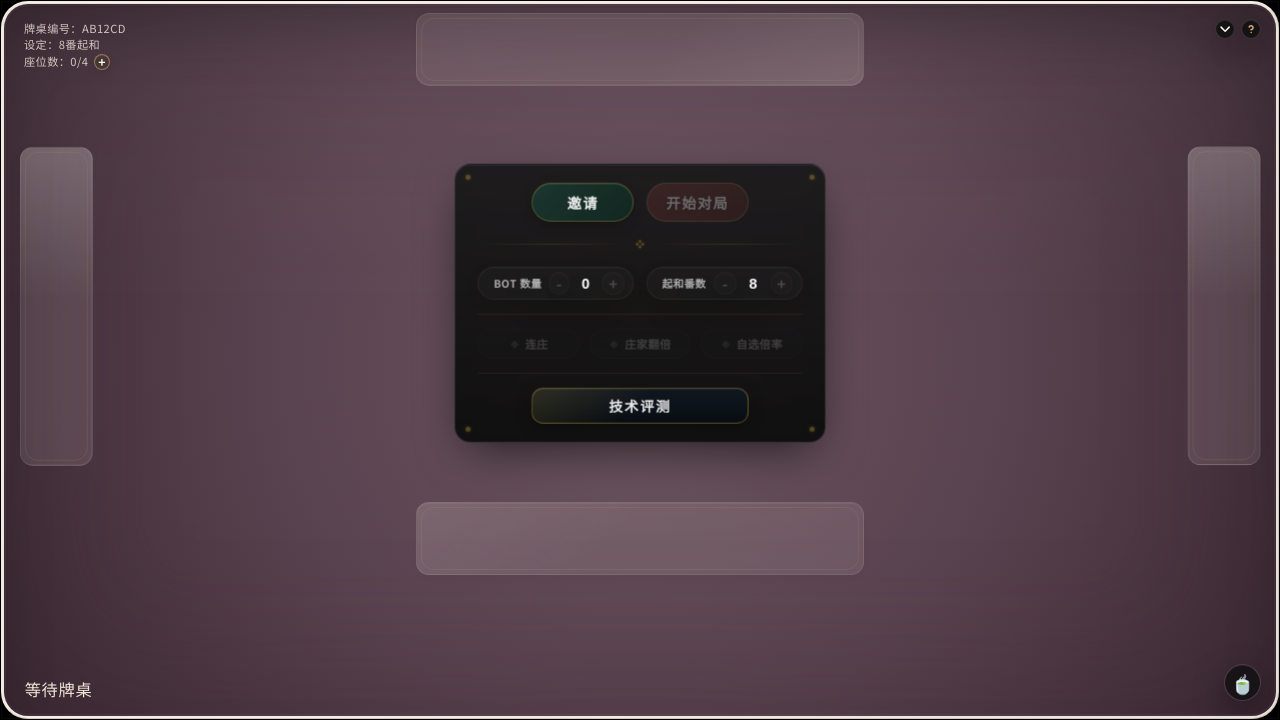
Test: App › starts evaluation, enters the current user table, and shows subject names instead of table codes
Click the button named "展开牌桌快捷设置".
click(1225, 29)  # box left=1215, top=19, right=1235, bottom=39
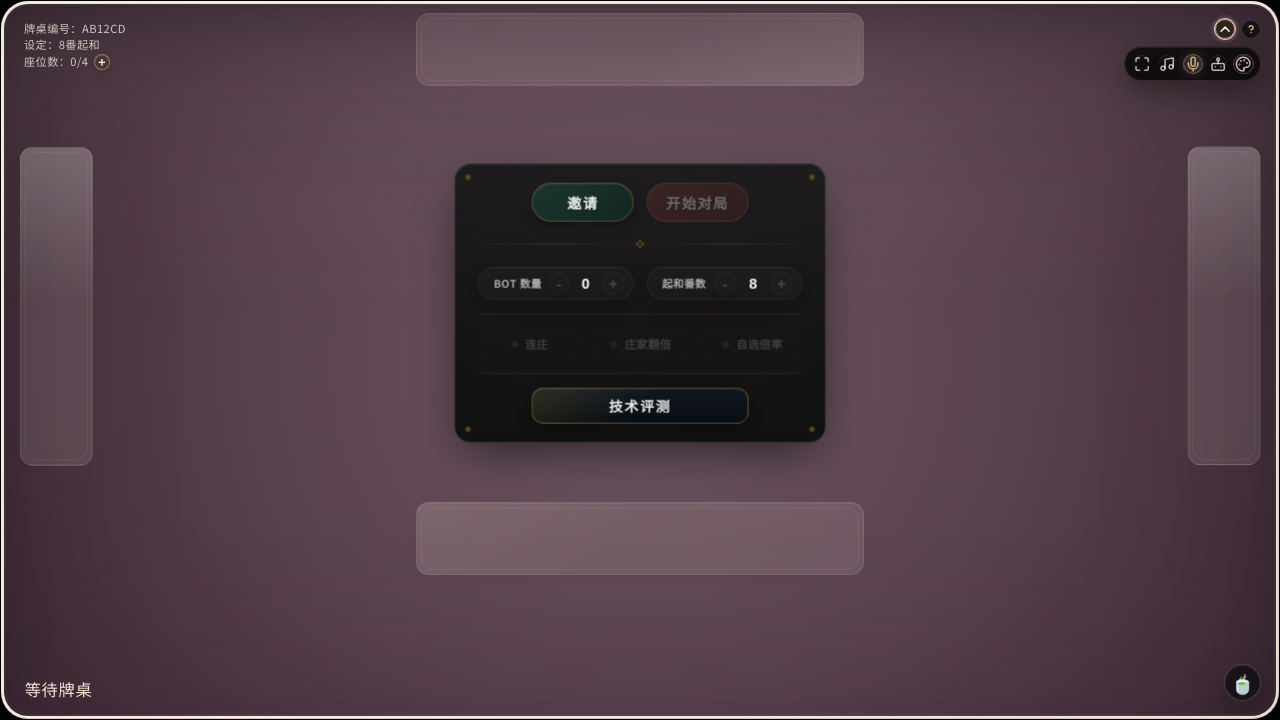
Click the button "技术评测".
click(640, 405)  # box left=532, top=387, right=748, bottom=424
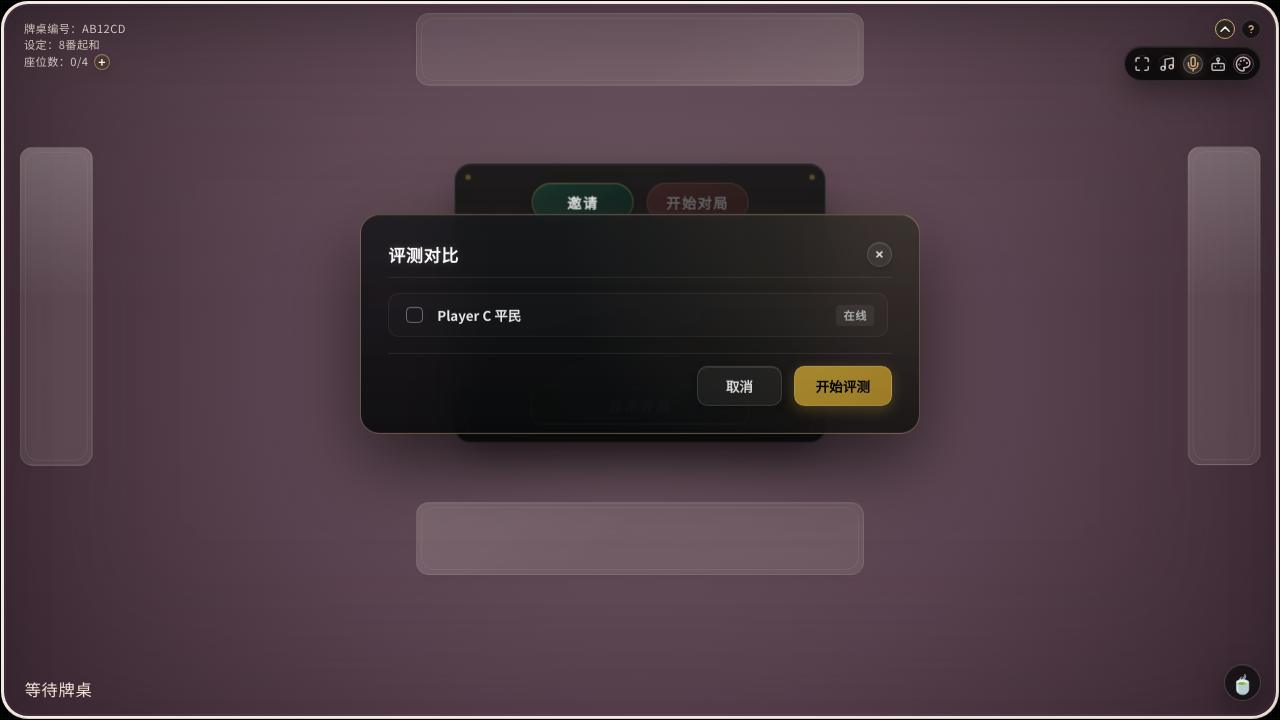
Click the checkbox labelled "Player C 平民 在线".
click(414, 315)  # box left=406, top=307, right=423, bottom=323
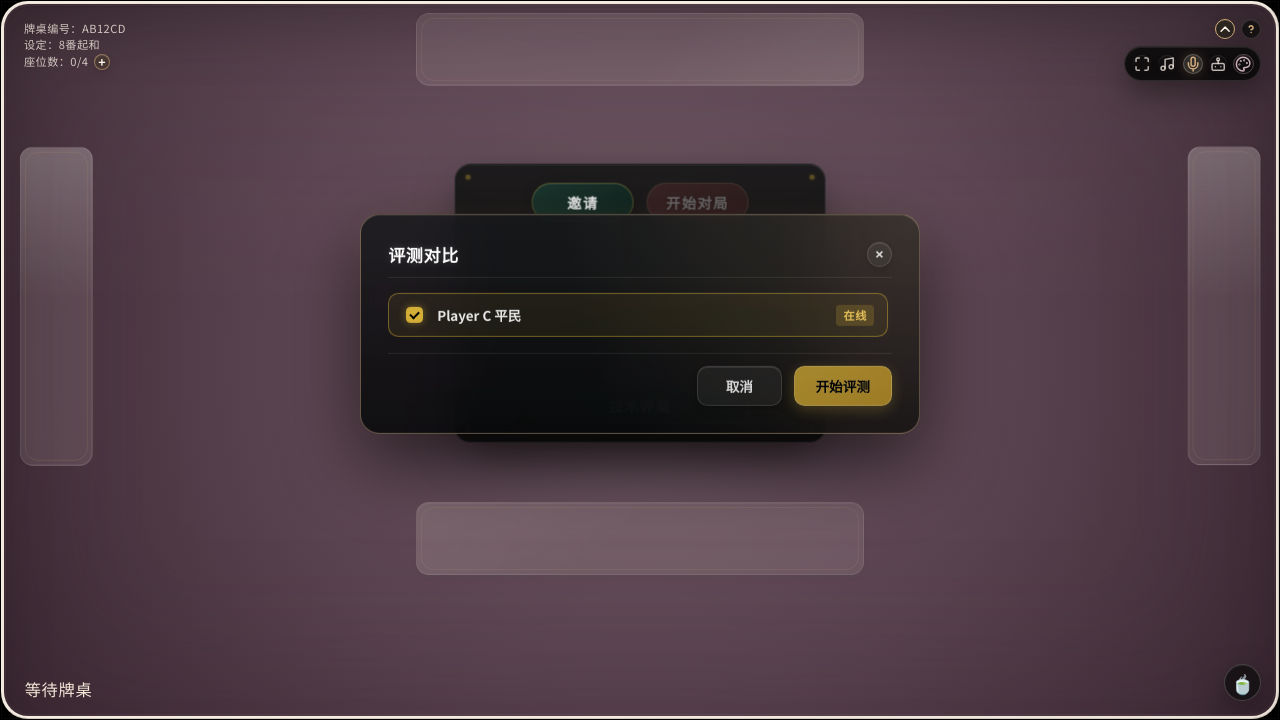
Click the button "开始评测".
click(843, 386)  # box left=794, top=366, right=892, bottom=406
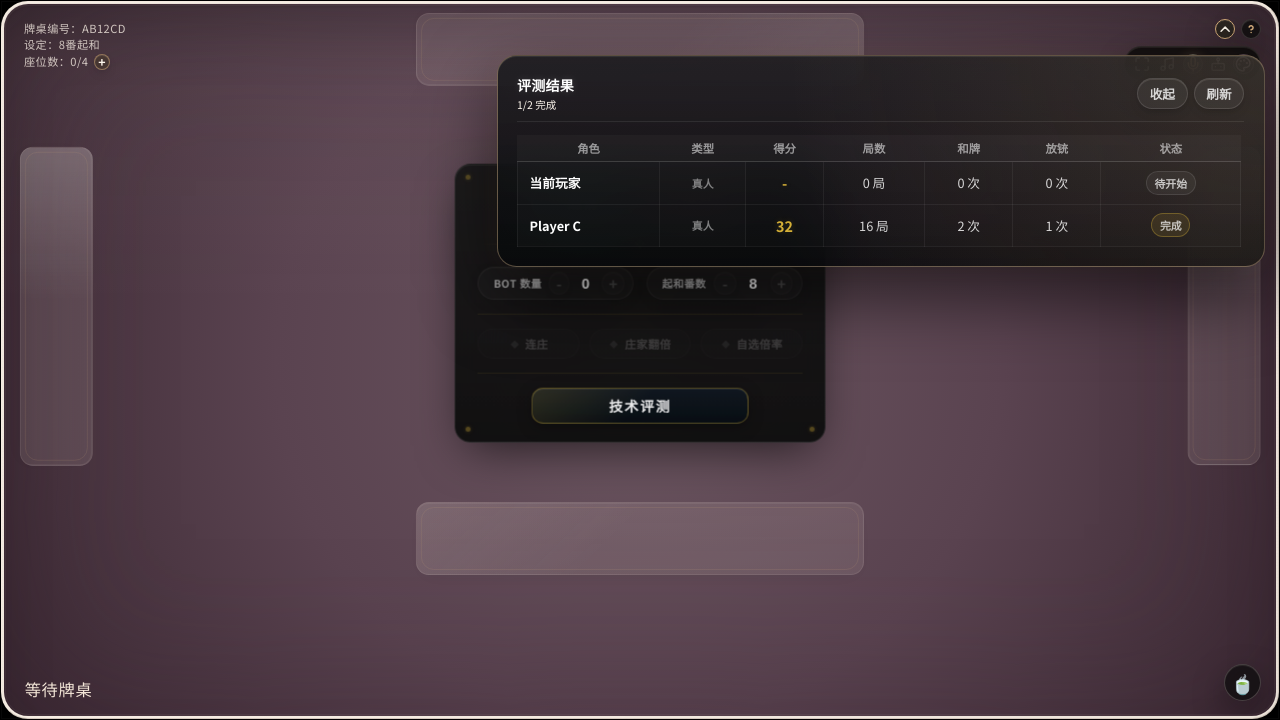
Expected: the text "Player C" is shown, left=518, top=204, right=660, bottom=246
Expected: the text "当前玩家" is shown, left=518, top=162, right=660, bottom=204
Expected: the text "16 局" is shown, left=823, top=204, right=925, bottom=246
Click the button "收起".
click(1162, 94)  # box left=1137, top=78, right=1188, bottom=109
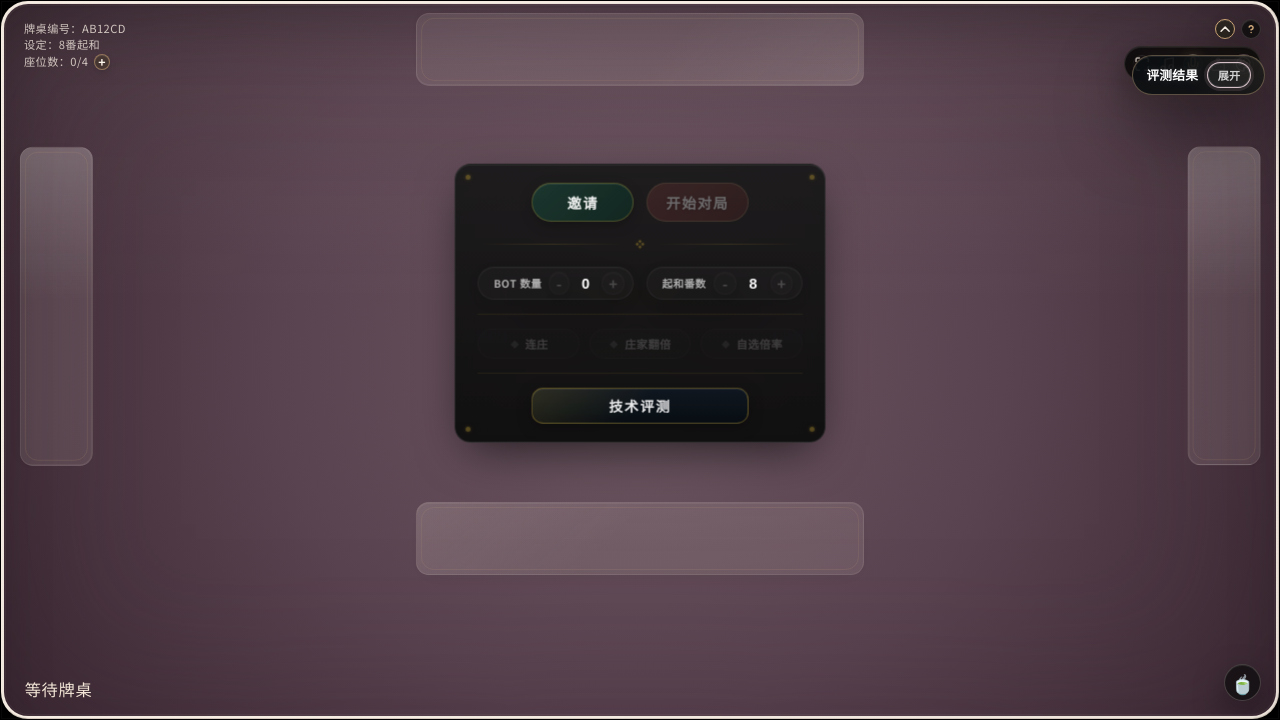
Expected: the text "16 局" is gone
Expected: the text "1/2 完成" is gone
Click the button "展开".
click(1229, 75)  # box left=1208, top=63, right=1250, bottom=87
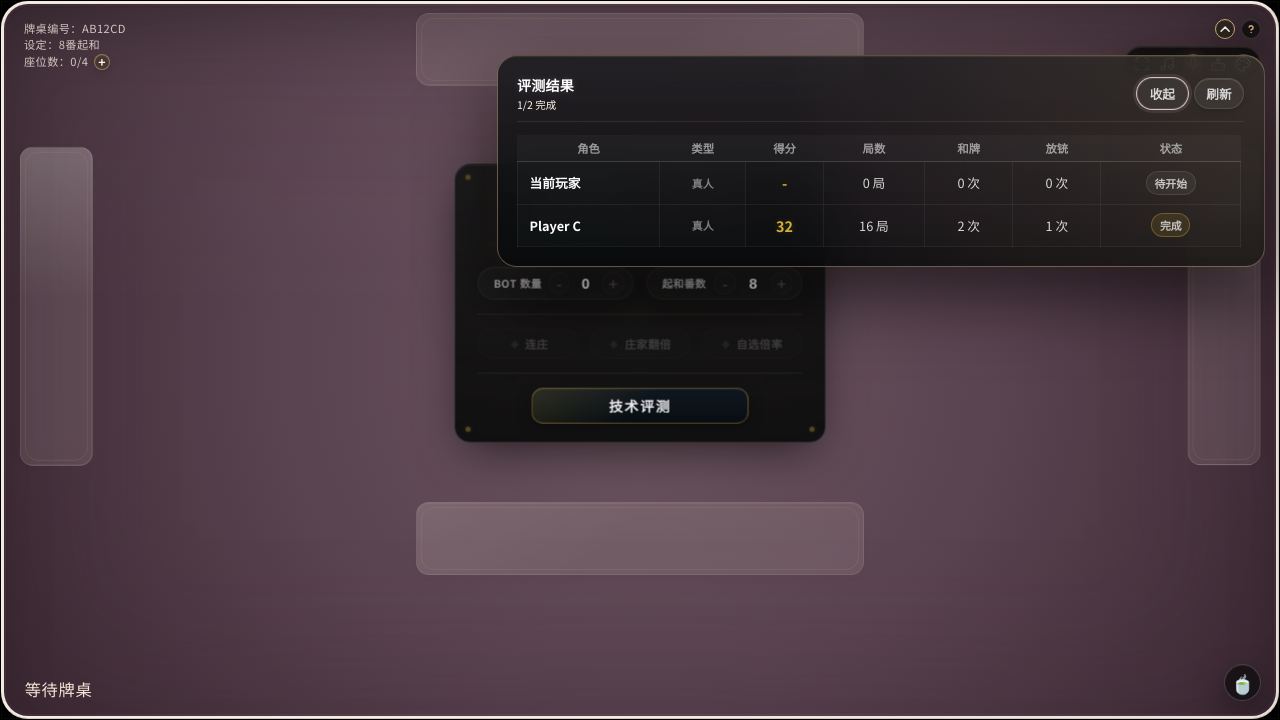
Expected: the text "16 局" is shown, left=823, top=204, right=925, bottom=246
